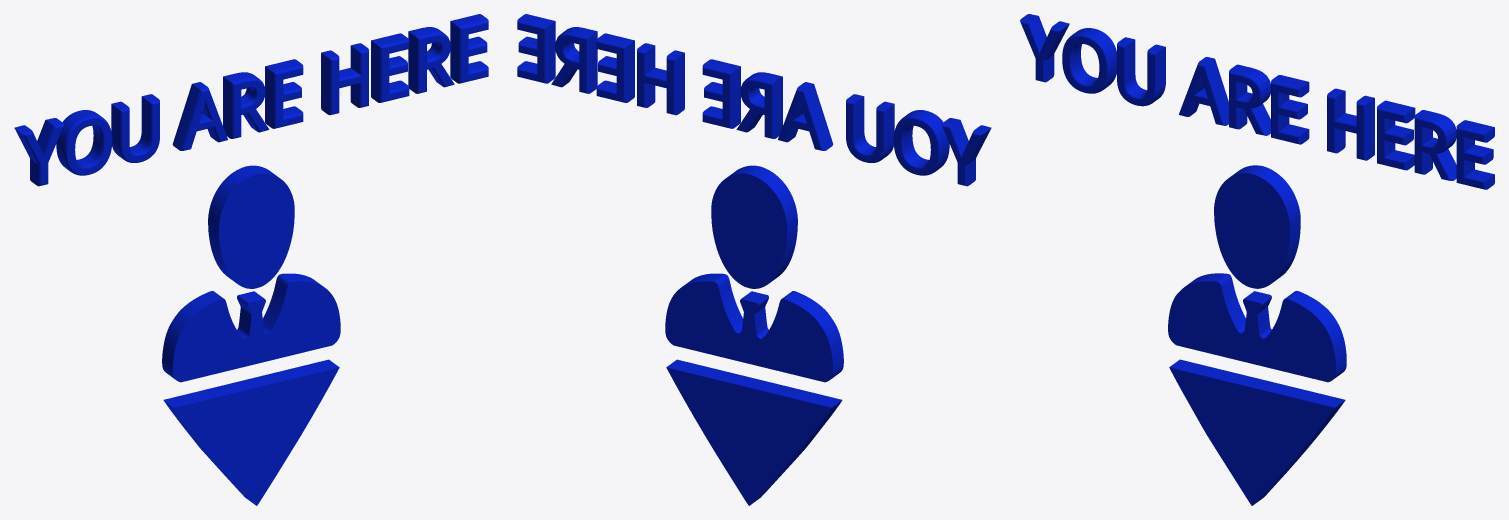
Rendered from human.glb.
The picture shows the model from 3 angles, left to right: view 1: azimuth 30°, elevation 25°; view 2: azimuth 150°, elevation 25°; view 3: azimuth 330°, elevation 25°; orthographic projection.
Visible parts, largest first — view 1: Mesh_Mesh_head_geo.001_lambert2SG.001; view 2: Mesh_Mesh_head_geo.001_lambert2SG.001; view 3: Mesh_Mesh_head_geo.001_lambert2SG.001.
Boxes of the visible parts, box(x1,y1,x2,y2) form: Mesh_Mesh_head_geo.001_lambert2SG.001: box(14, 14, 488, 505); Mesh_Mesh_head_geo.001_lambert2SG.001: box(517, 14, 991, 505); Mesh_Mesh_head_geo.001_lambert2SG.001: box(1020, 14, 1494, 505).
Bounding box in the file's own units: 25 × 21.99 × 1.
